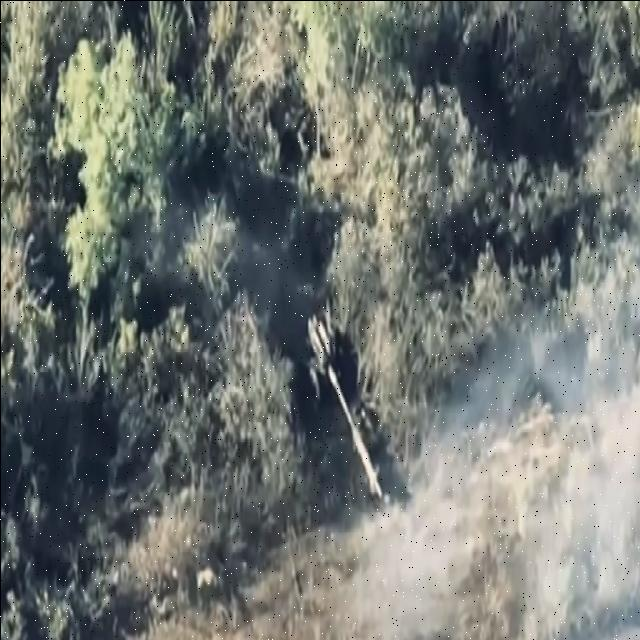ART: (301, 304, 389, 506)
